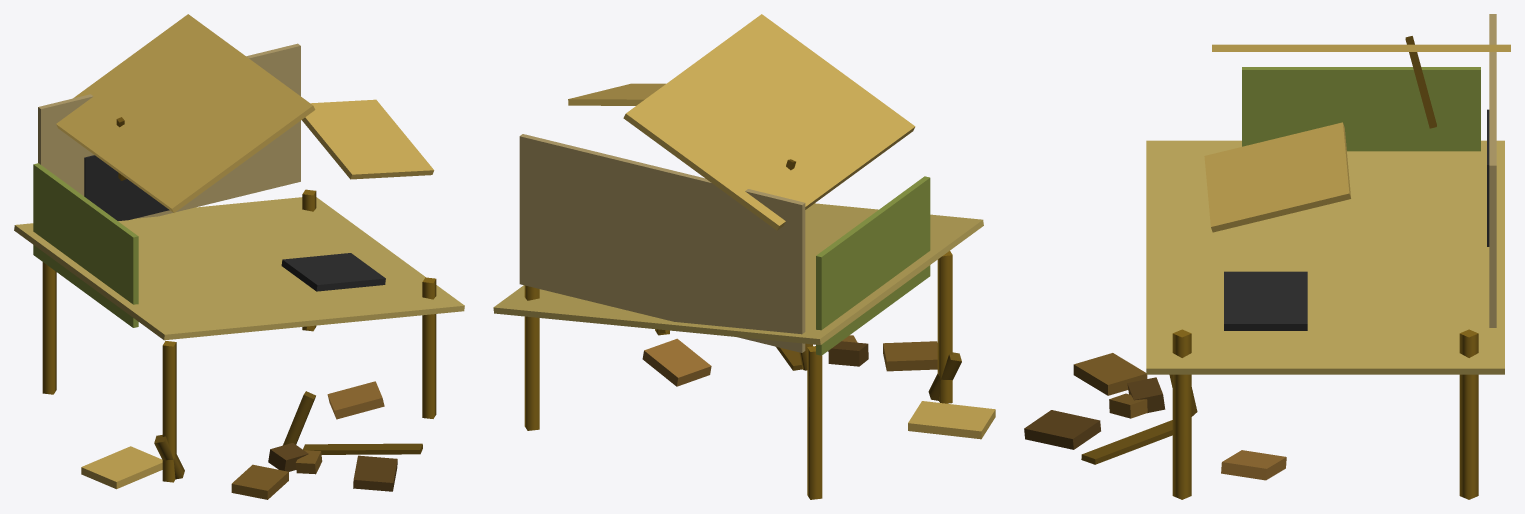
Rendered from village-hut-damaged.glb.
3 views of the same model, side by side, from view 1: azimuth 30°, elevation 25°; view 2: azimuth 150°, elevation 25°; view 3: azimuth 270°, elevation 25° (orthographic). The views are drawn at different scales.
Visible parts, largest first — view 1: Mesh_Floor, Mesh_RoofPiece, Mesh_LeftWall, Mesh_BackWall, Mesh_RoofFragment, Mesh_Charring, Mesh_FloorHole, Mesh_ThatchDebris, Mesh_StiltBL, Mesh_StiltFL, Mesh_StiltFR, Mesh_Debris2 (+7 smaller); view 2: Mesh_BackWall, Mesh_RoofPiece, Mesh_Floor, Mesh_LeftWall, Mesh_ThatchDebris, Mesh_StiltBL, Mesh_StiltFL, Mesh_StiltBR, Mesh_Debris2, Mesh_Debris1, Mesh_RoofFragment, Mesh_Rubble1 (+1 smaller); view 3: Mesh_Floor, Mesh_LeftWall, Mesh_RoofFragment, Mesh_FloorHole, Mesh_StiltFR, Mesh_StiltBR, Mesh_BackWall, Mesh_RoofPiece, Mesh_Debris3, Mesh_Debris1, Mesh_Debris2, Mesh_BrokenPlank (+3 smaller).
Boxes of the visible parts, x1,y1,x2,y2 form: Mesh_Floor: [14, 197, 464, 340]; Mesh_RoofPiece: [56, 14, 315, 212]; Mesh_LeftWall: [33, 163, 138, 327]; Mesh_BackWall: [38, 43, 300, 218]; Mesh_RoofFragment: [302, 99, 434, 179]; Mesh_Charring: [84, 155, 169, 220]; Mesh_FloorHole: [281, 253, 385, 291]; Mesh_ThatchDebris: [81, 446, 162, 489]; Mesh_StiltBL: [42, 262, 56, 394]; Mesh_StiltFL: [162, 341, 176, 482]; Mesh_StiltFR: [422, 277, 436, 418]; Mesh_Debris2: [327, 381, 384, 419]; Mesh_BackWall: [519, 134, 805, 352]; Mesh_RoofPiece: [623, 14, 915, 230]; Mesh_Floor: [493, 203, 983, 344]; Mesh_LeftWall: [816, 176, 930, 355]; Mesh_ThatchDebris: [908, 401, 995, 439]; Mesh_StiltBL: [807, 346, 822, 499]; Mesh_StiltFL: [937, 251, 952, 403]; Mesh_StiltBR: [524, 285, 539, 430]; Mesh_Debris2: [642, 338, 711, 386]; Mesh_Debris1: [883, 341, 937, 371]; Mesh_RoofFragment: [568, 83, 665, 105]; Mesh_Rubble1: [828, 341, 868, 366]; Mesh_Floor: [1146, 140, 1504, 374]; Mesh_LeftWall: [1242, 67, 1480, 151]; Mesh_RoofFragment: [1204, 122, 1351, 232]; Mesh_FloorHole: [1224, 271, 1307, 330]; Mesh_StiltFR: [1172, 329, 1191, 499]; Mesh_StiltBR: [1459, 329, 1478, 499]; Mesh_BackWall: [1489, 14, 1496, 327]; Mesh_RoofPiece: [1212, 44, 1510, 51]; Mesh_Debris3: [1024, 410, 1100, 449]; Mesh_Debris1: [1073, 353, 1147, 395]; Mesh_Debris2: [1221, 450, 1286, 480]; Mesh_BrokenPlank: [1081, 420, 1172, 464].
Size of the model in its own units: 3.94 by 3.66 by 4.07.
